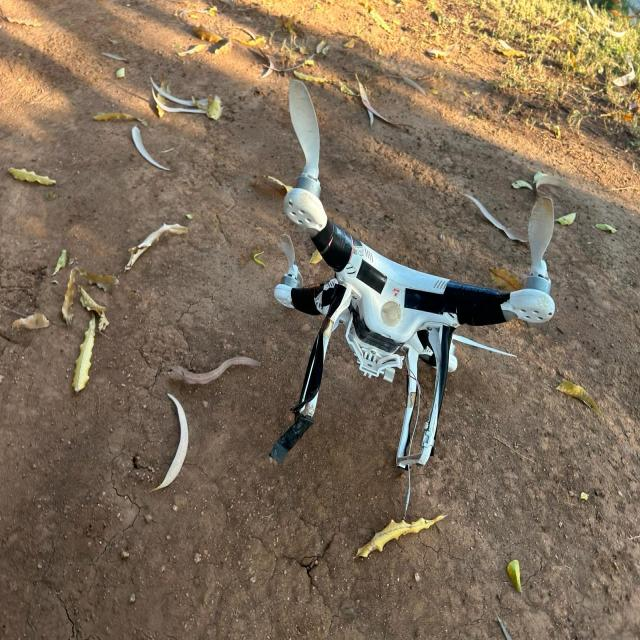drone: (222, 95, 585, 513)
